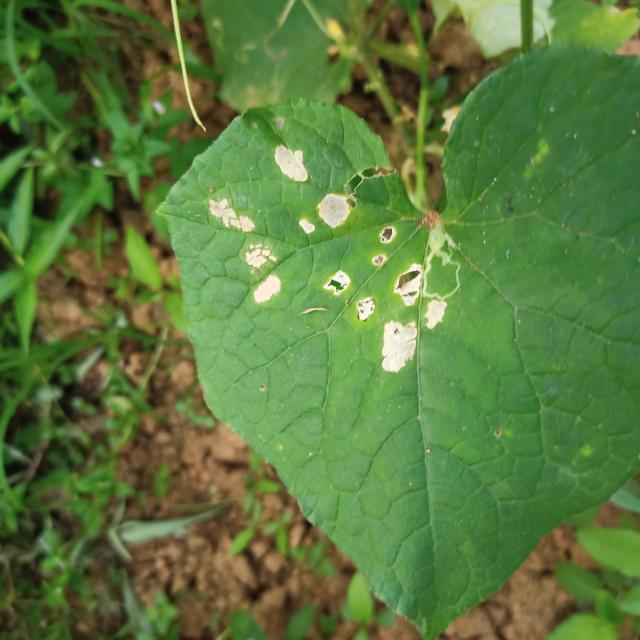disease_cucumber: (274, 144, 446, 372), (208, 199, 280, 303)
